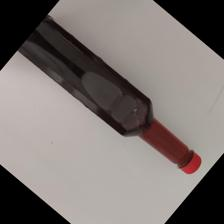Namngu: (4, 5, 202, 175)
